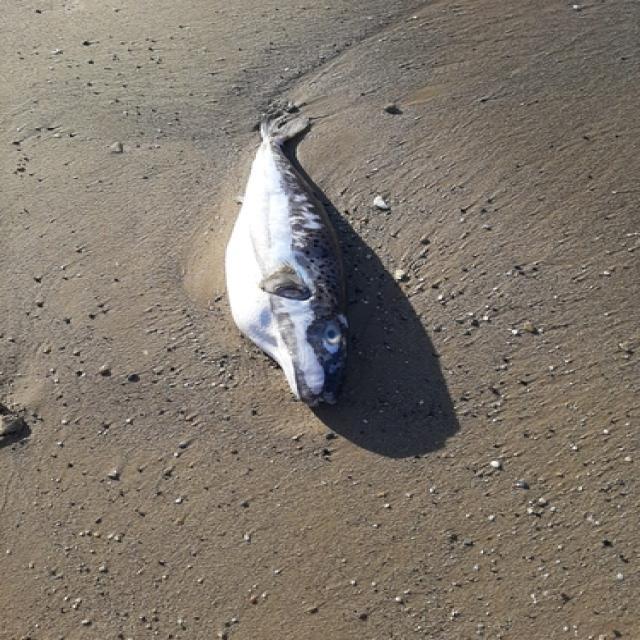Balik: (226, 118, 346, 405)
